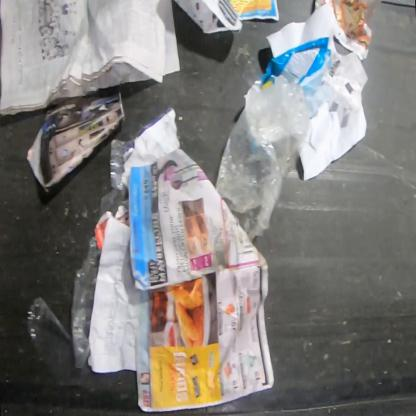soft_plastic: (216, 72, 310, 244), (26, 236, 101, 370), (258, 37, 334, 121), (100, 139, 133, 216)
